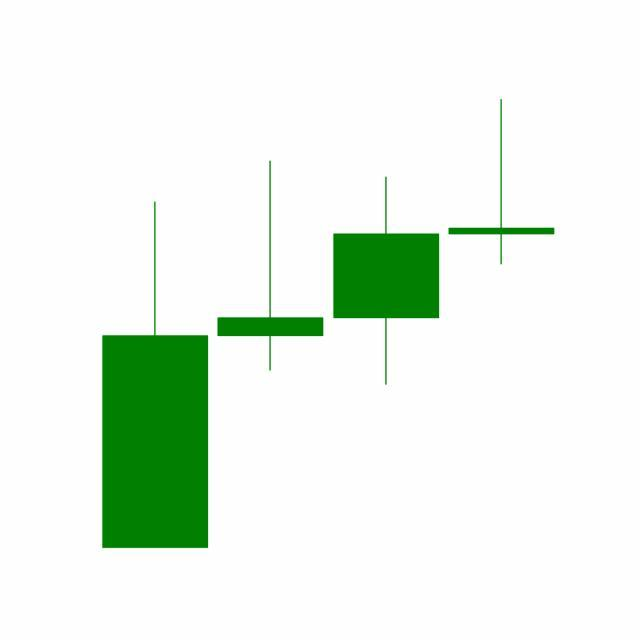Spinning Top: (444, 97, 560, 267)
